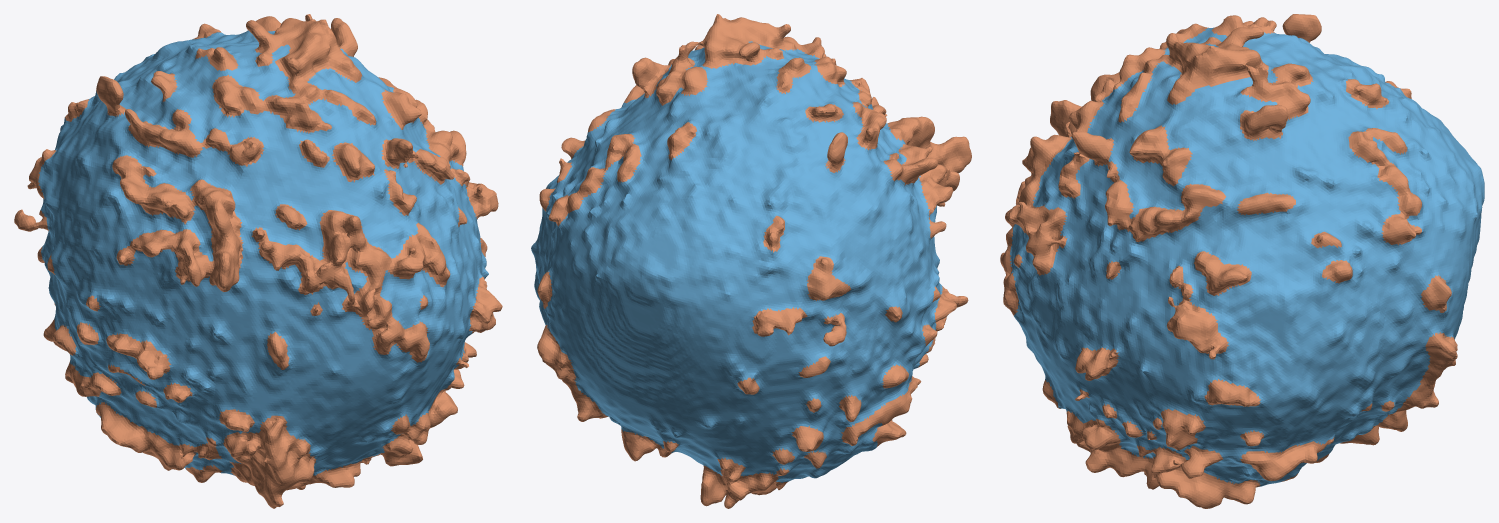
The picture shows the model from 3 angles, left to right: view 1: azimuth 30°, elevation 25°; view 2: azimuth 150°, elevation 25°; view 3: azimuth 270°, elevation 25°; orthographic projection. The views are drawn at different scales.
Size of the model in its own units: 140 by 146 by 144.
